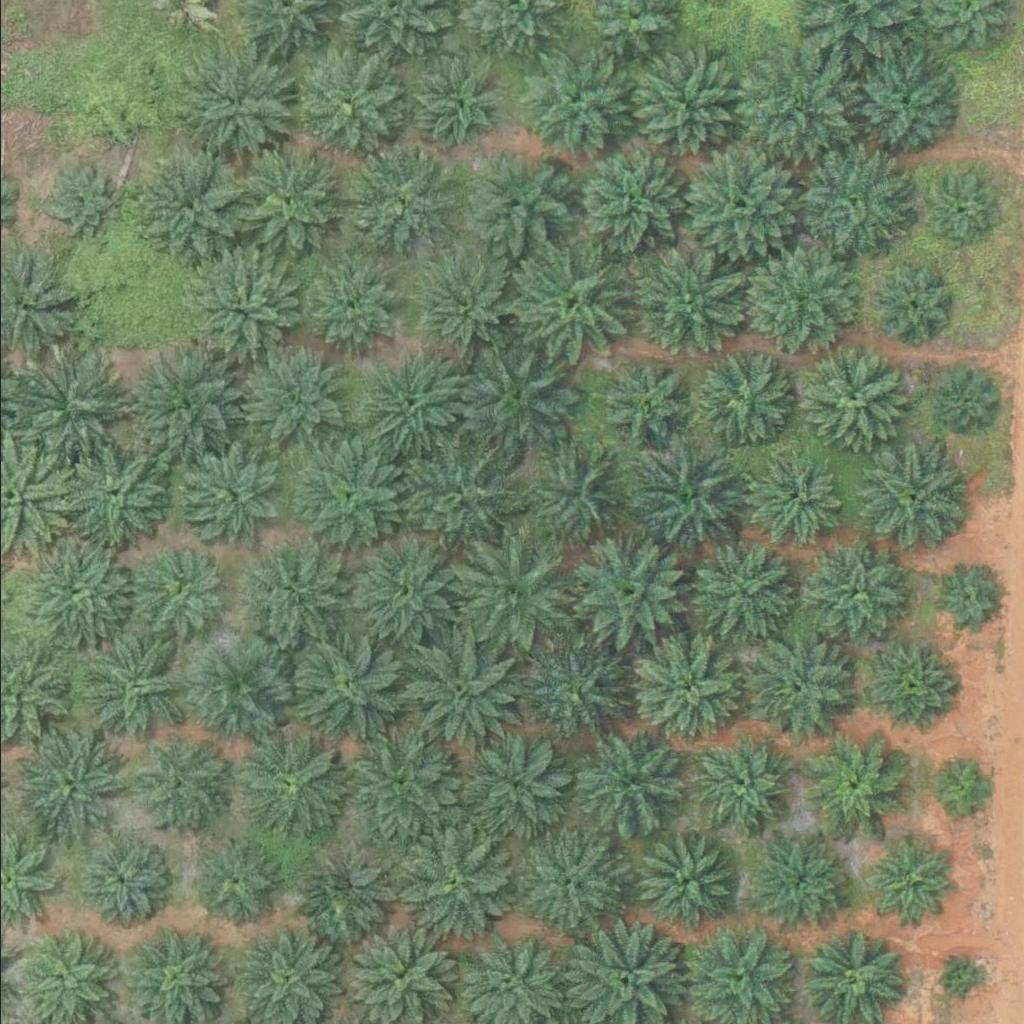Kelapa_Sawit: (729, 46, 855, 171), (564, 140, 690, 265), (622, 241, 748, 366), (507, 240, 633, 365), (451, 336, 577, 461), (631, 432, 757, 557), (512, 431, 638, 556), (396, 431, 522, 556), (562, 532, 688, 657), (444, 530, 570, 655), (396, 627, 522, 752), (282, 623, 408, 748), (342, 530, 468, 655), (285, 433, 411, 558), (3, 346, 129, 471), (620, 628, 745, 753), (389, 818, 514, 943), (340, 725, 465, 850), (227, 725, 352, 850), (623, 52, 737, 165), (133, 351, 247, 464), (338, 144, 452, 257), (519, 50, 632, 163), (401, 43, 514, 156), (453, 144, 566, 257), (742, 244, 855, 357), (73, 630, 186, 743), (179, 254, 292, 367), (230, 144, 343, 257), (129, 148, 242, 261), (685, 147, 799, 259), (406, 252, 520, 364), (20, 536, 134, 648), (166, 438, 280, 550), (59, 439, 173, 551), (801, 142, 914, 254), (8, 730, 121, 842), (290, 49, 403, 161), (176, 48, 289, 160), (804, 349, 905, 449), (689, 348, 790, 448), (863, 451, 964, 551), (742, 445, 843, 545), (806, 542, 907, 642), (694, 542, 795, 642), (749, 637, 850, 737), (522, 645, 623, 745), (802, 739, 903, 839), (687, 734, 788, 834), (573, 735, 674, 835), (469, 739, 570, 839), (750, 831, 851, 931), (634, 833, 735, 933), (518, 830, 619, 930), (295, 839, 396, 939), (127, 736, 228, 836), (186, 639, 287, 739), (243, 548, 344, 648), (851, 50, 951, 150), (594, 355, 694, 455), (363, 354, 463, 454), (242, 345, 342, 445), (296, 252, 396, 352), (187, 836, 276, 924), (863, 836, 951, 924), (76, 833, 164, 921), (866, 648, 954, 735), (135, 549, 223, 636), (917, 171, 993, 246), (874, 268, 949, 343), (41, 164, 116, 239), (932, 369, 995, 432), (934, 569, 997, 631), (933, 755, 996, 817), (938, 962, 976, 999)
